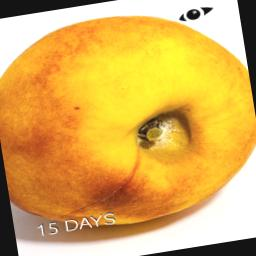Peach Overripe: (0, 0, 256, 246)
